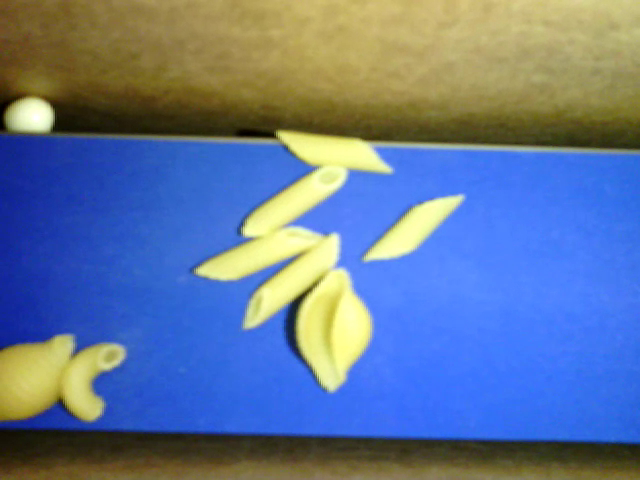elbow: (61, 340, 126, 422)
penne: (241, 232, 341, 329), (240, 163, 349, 239), (192, 226, 327, 282), (363, 195, 465, 259), (275, 129, 393, 173)
shell: (295, 265, 371, 393), (1, 332, 75, 420)
